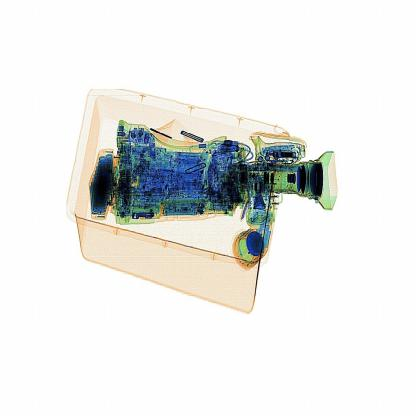pliers: (236, 193, 254, 228)
